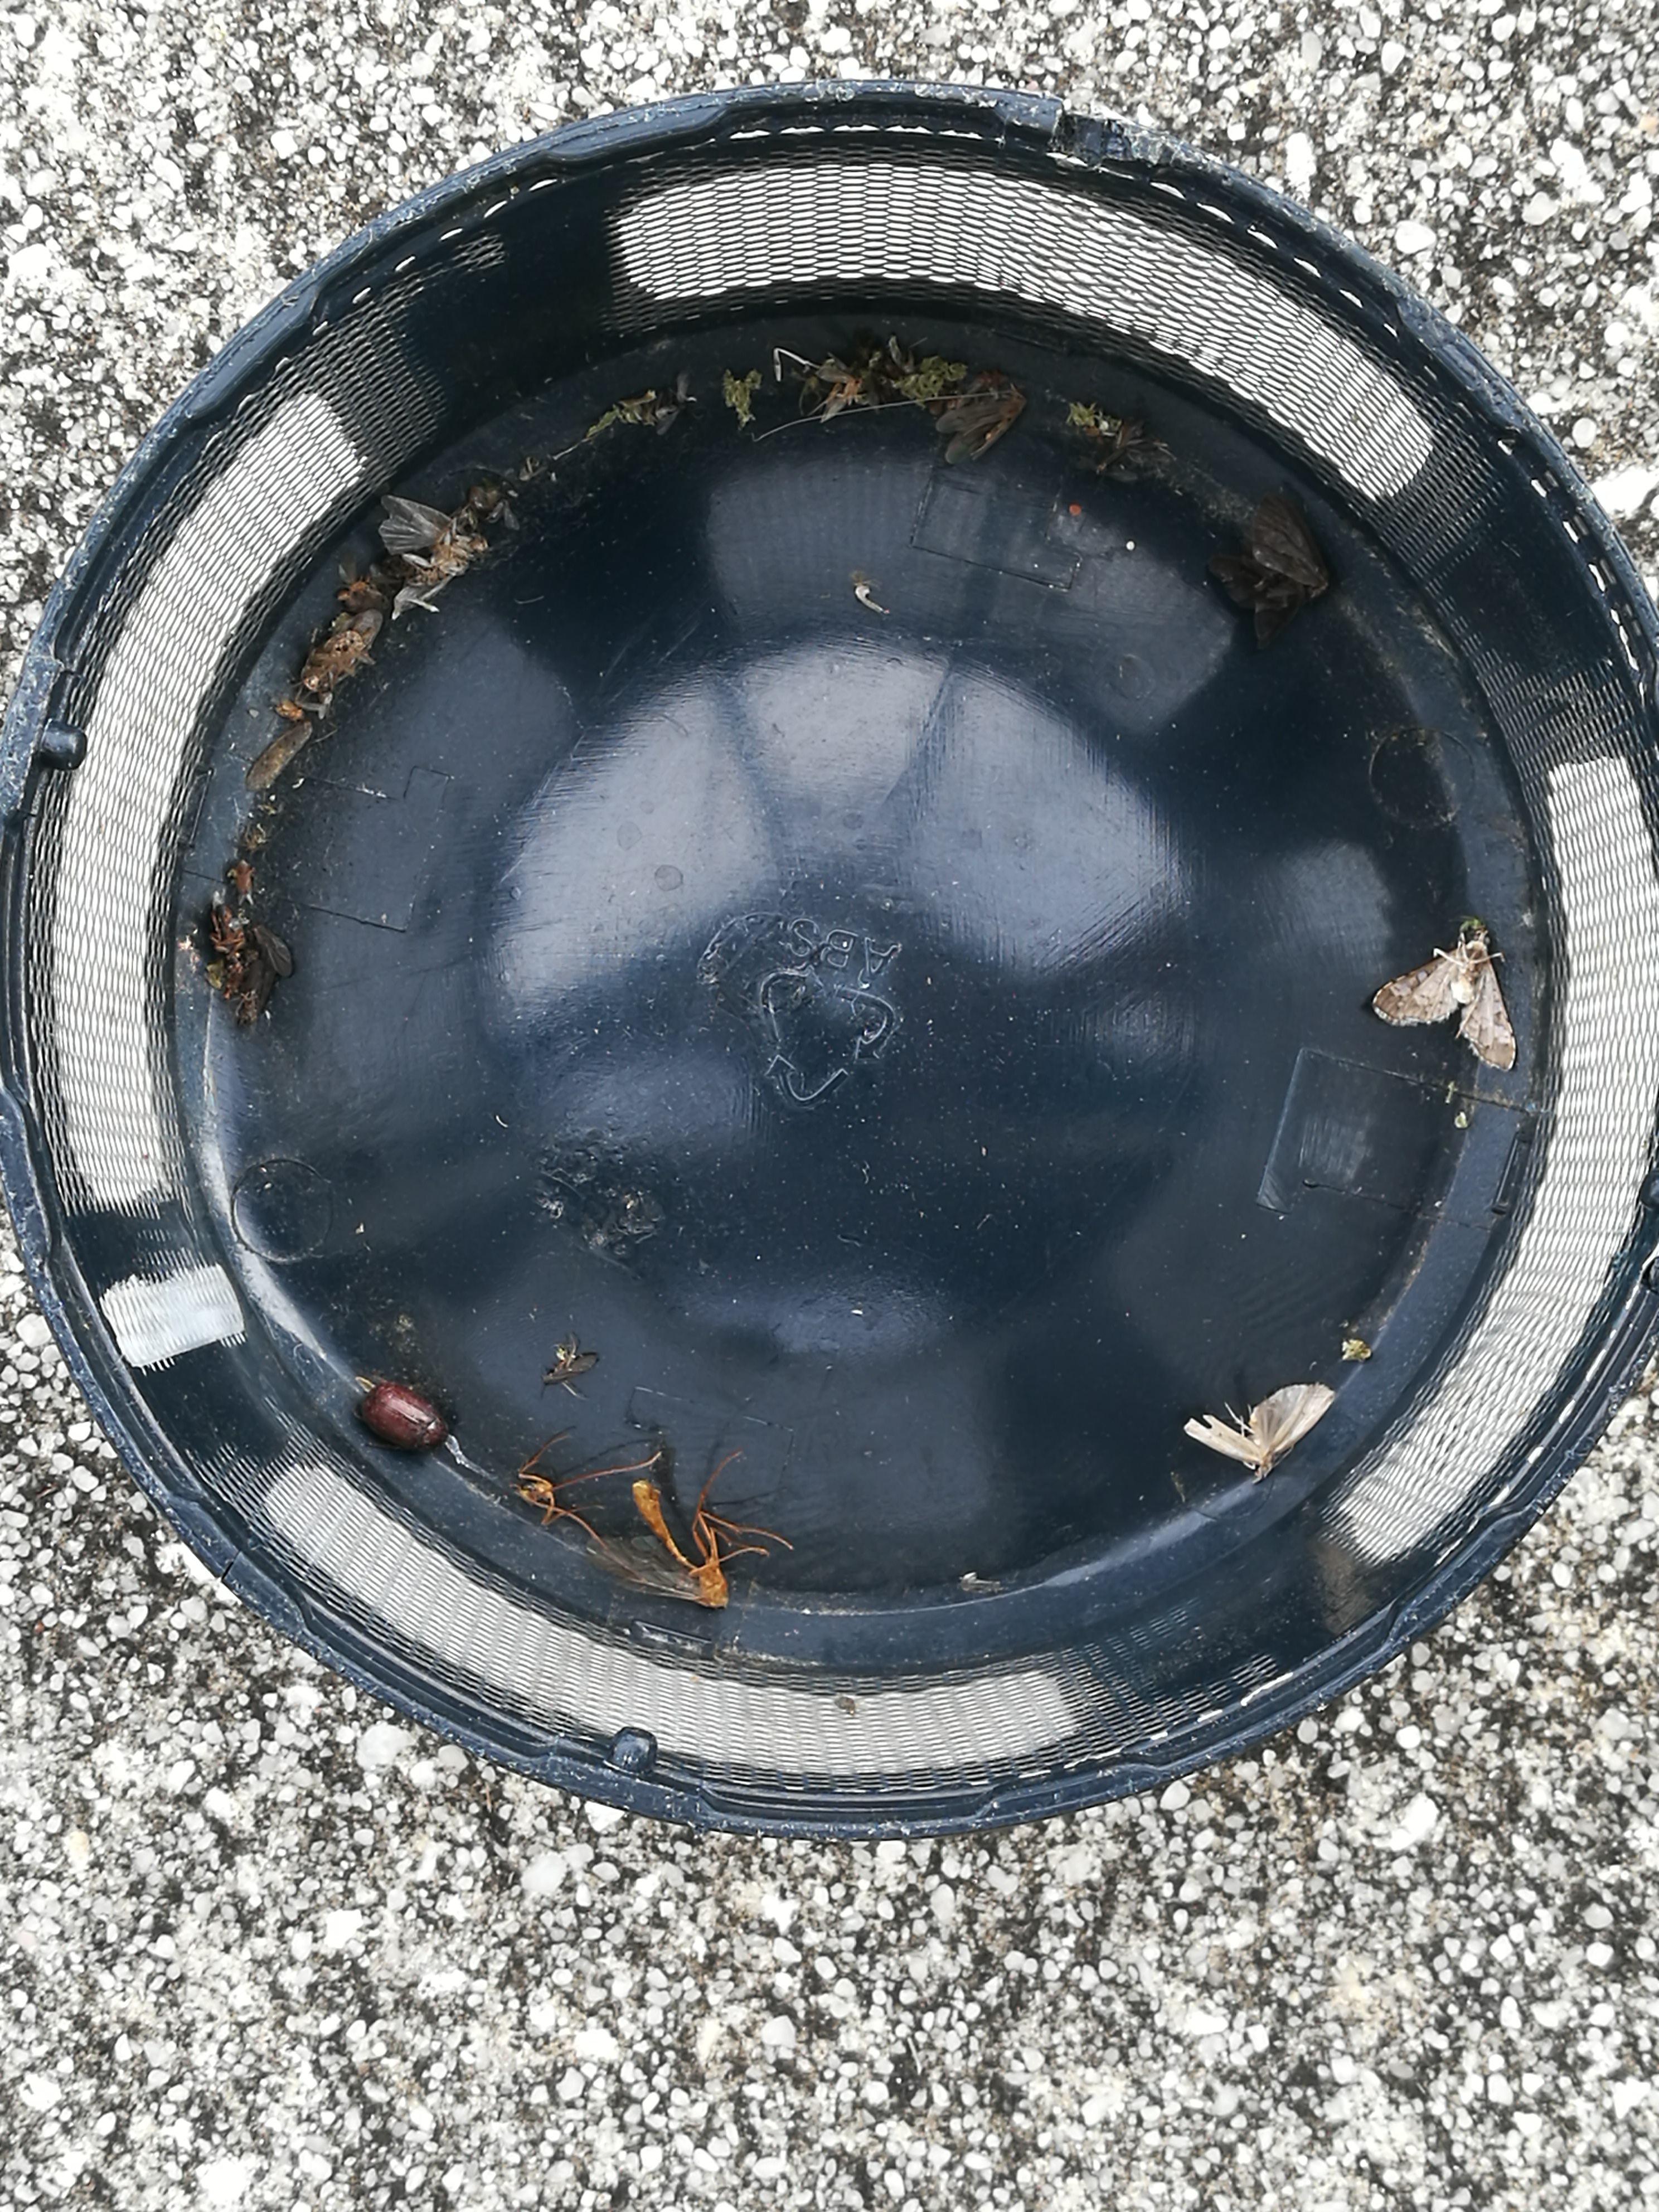beetle: (301, 608, 385, 690), (362, 1385, 446, 1449)
mosquito: (394, 566, 457, 613), (544, 1355, 592, 1386)
moth: (1209, 484, 1330, 650), (1373, 934, 1514, 1071), (1187, 1383, 1333, 1467), (936, 397, 1028, 463), (380, 496, 458, 550)
